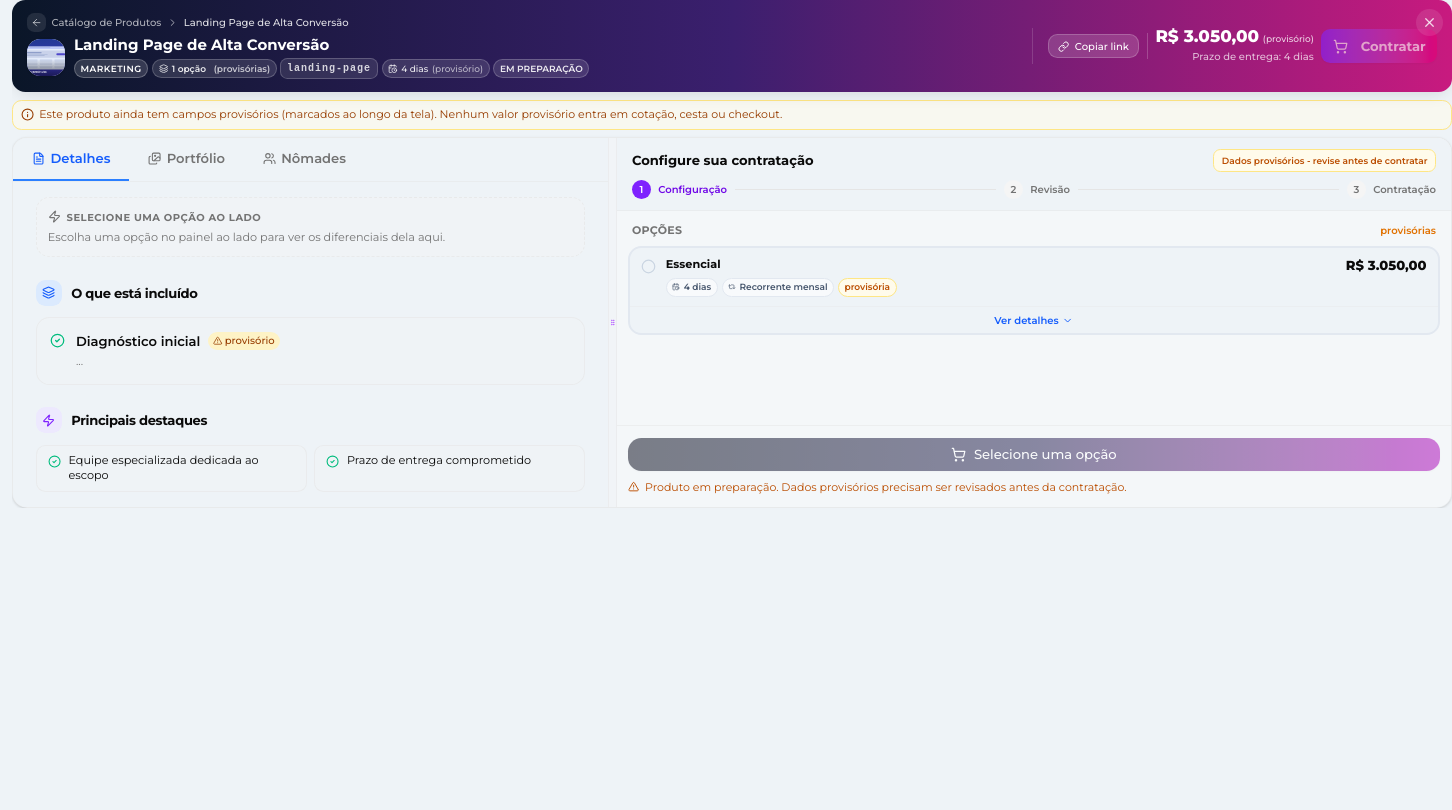
Test: Catalog2ProductDetail — dado provisório › aba Portfólio mostra o aviso de portfólio provisório quando há referências
The width and height of the screenshot is (1452, 810).
Click the tab "Portfólio": [186, 160] box [129,138,244,181]
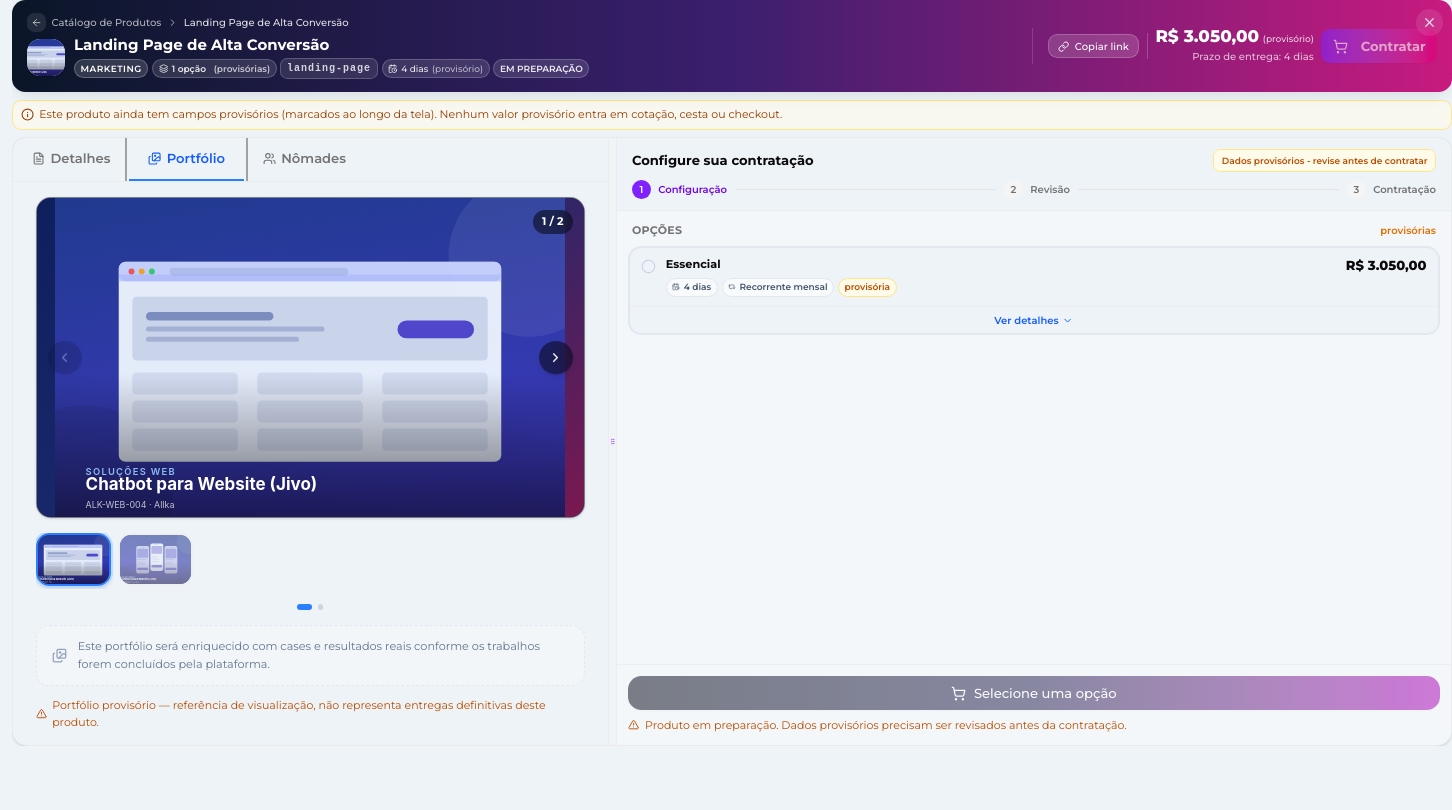
Check: the text "Portfólio provisório" is shown, box [52,698,546,729]
